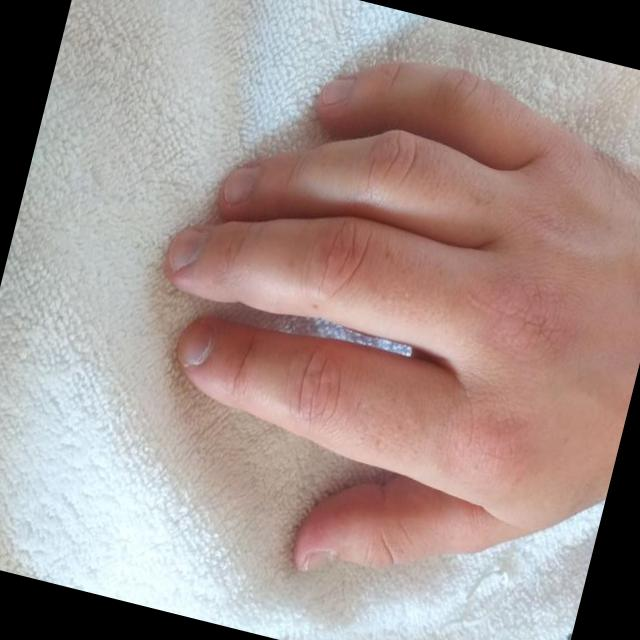Nail: (165, 224, 208, 274), (176, 318, 214, 365), (221, 164, 257, 205), (318, 77, 353, 104), (298, 551, 328, 570)
